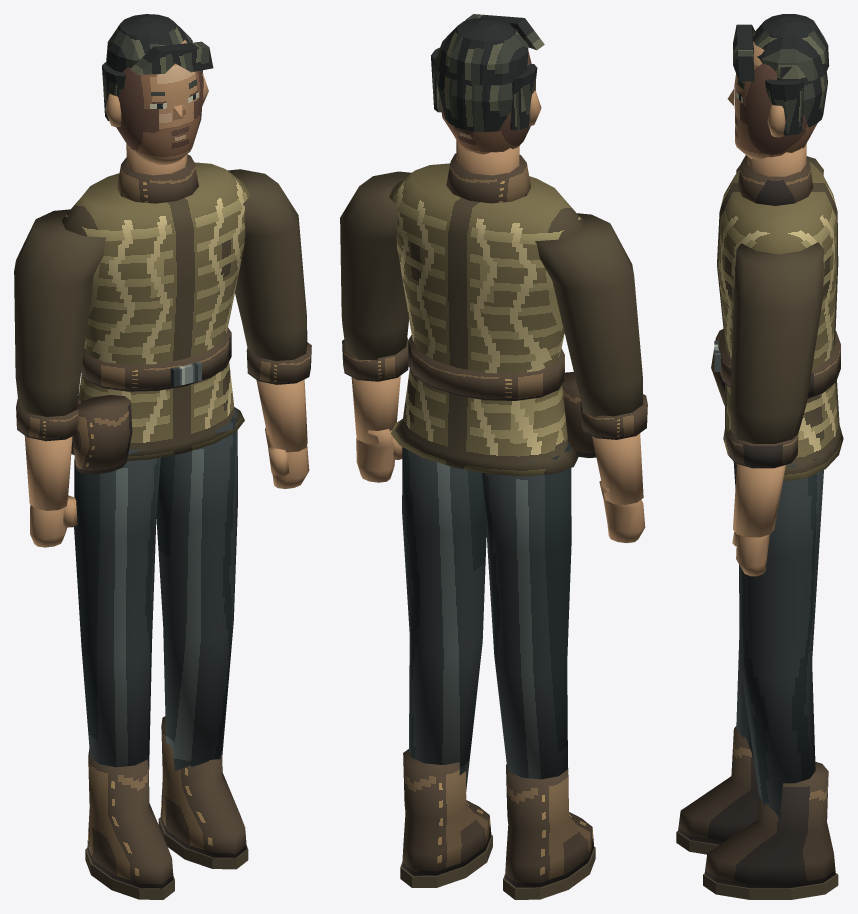
Rendered from tavin-graphic.glb.
3 views of the same model, side by side, from view 1: azimuth 30°, elevation 25°; view 2: azimuth 150°, elevation 25°; view 3: azimuth 270°, elevation 25° (orthographic). The views are drawn at different scales.
Parts seen in each view (by area): view 1: tavin-graphic runtime mesh; view 2: tavin-graphic runtime mesh; view 3: tavin-graphic runtime mesh.
Boxes of the visible parts, <box> form: tavin-graphic runtime mesh: <box>14,14,311,899</box>; tavin-graphic runtime mesh: <box>340,14,647,899</box>; tavin-graphic runtime mesh: <box>676,14,843,899</box>.
Size of the model in its own units: 0.64 by 1.78 by 0.3201.
Materials: 1 (1 with a texture image).
